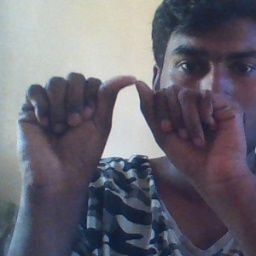A: (49, 66, 214, 174)
